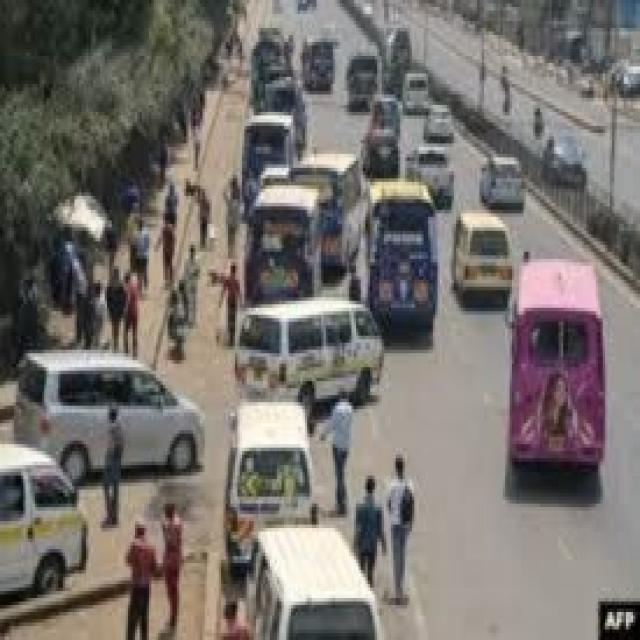bus: (506, 247, 624, 493), (241, 170, 323, 284), (361, 180, 447, 278), (238, 111, 304, 158), (333, 146, 355, 258), (303, 38, 339, 92), (348, 45, 381, 98)
matatu: (1, 438, 108, 607), (250, 511, 382, 640), (236, 288, 401, 379), (217, 389, 336, 499), (455, 203, 499, 313)
